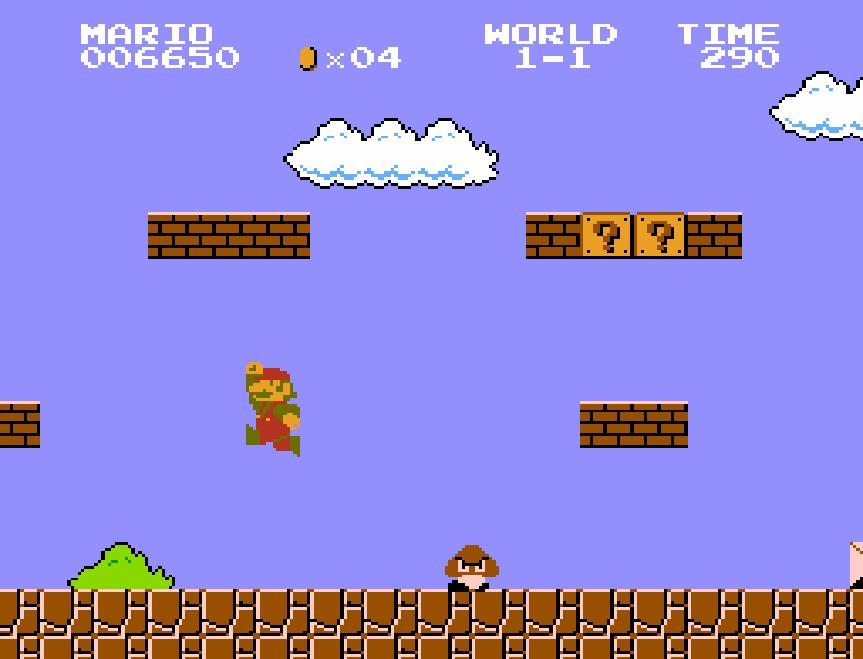big_mario: (244, 360, 302, 458)
